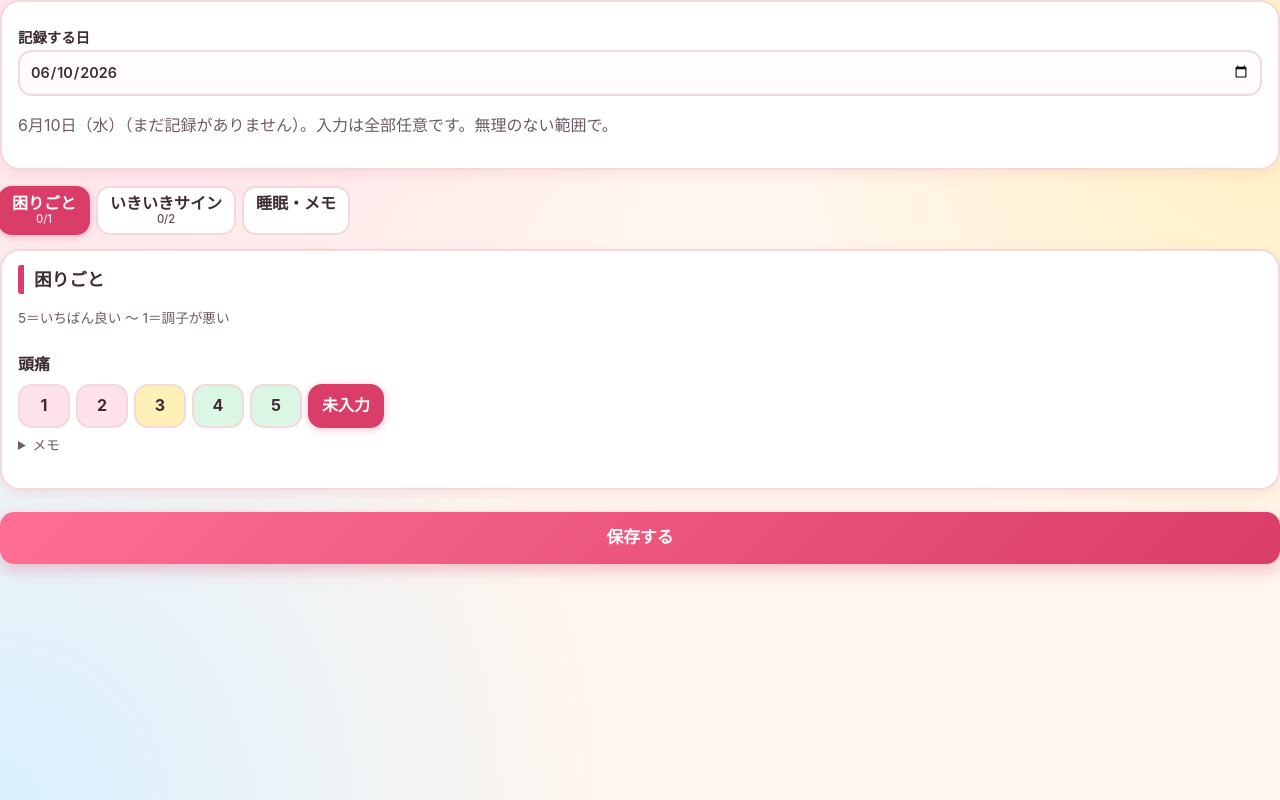
Test: 今日の画面: 状態と「意識した」を1つのまとまりで › サインの中に「意識した？」が出て、試したことの一覧には重複して出ない。保存できる
Step 1. Click the tab "いきいきサイン 0/2" → (166, 210), box [96,186,236,234]
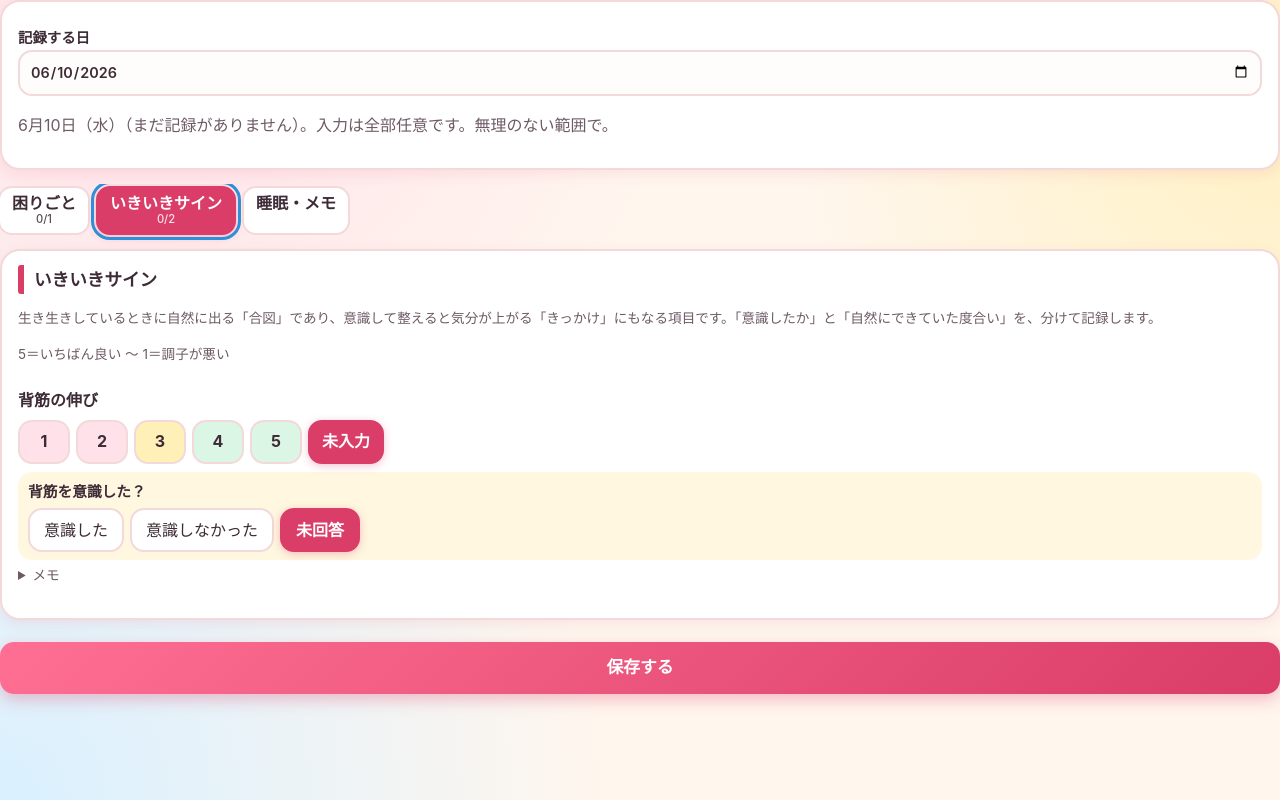
Check: the text "自然にできていた度合い" is shown, box [18,310,1162,326]
Check: the number of elements "背筋を意識した" is 1, box [18,472,1262,560]
Step 2. Click the radio button labelled "意識した" → (76, 530), box [28,508,124,552]
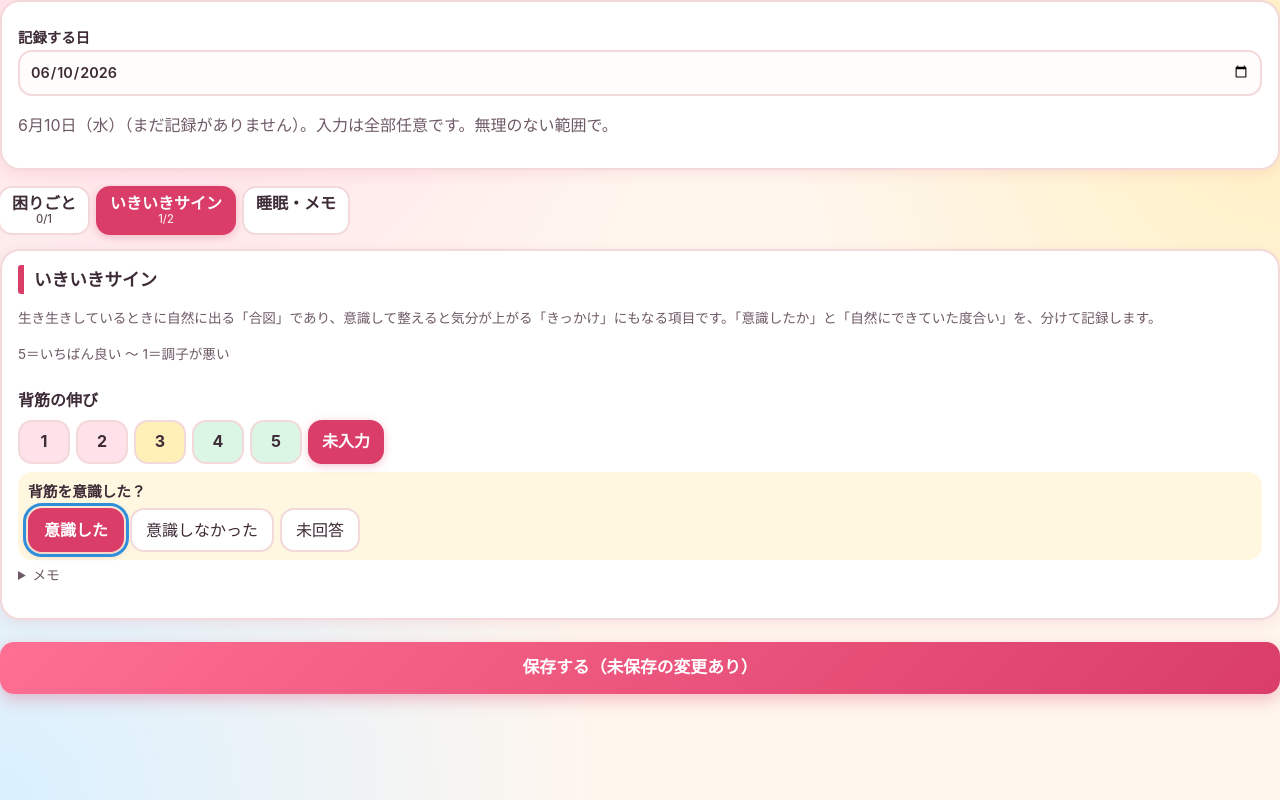
Step 3. Click the radio button labelled "4" → (218, 442), box [192,420,244,464]
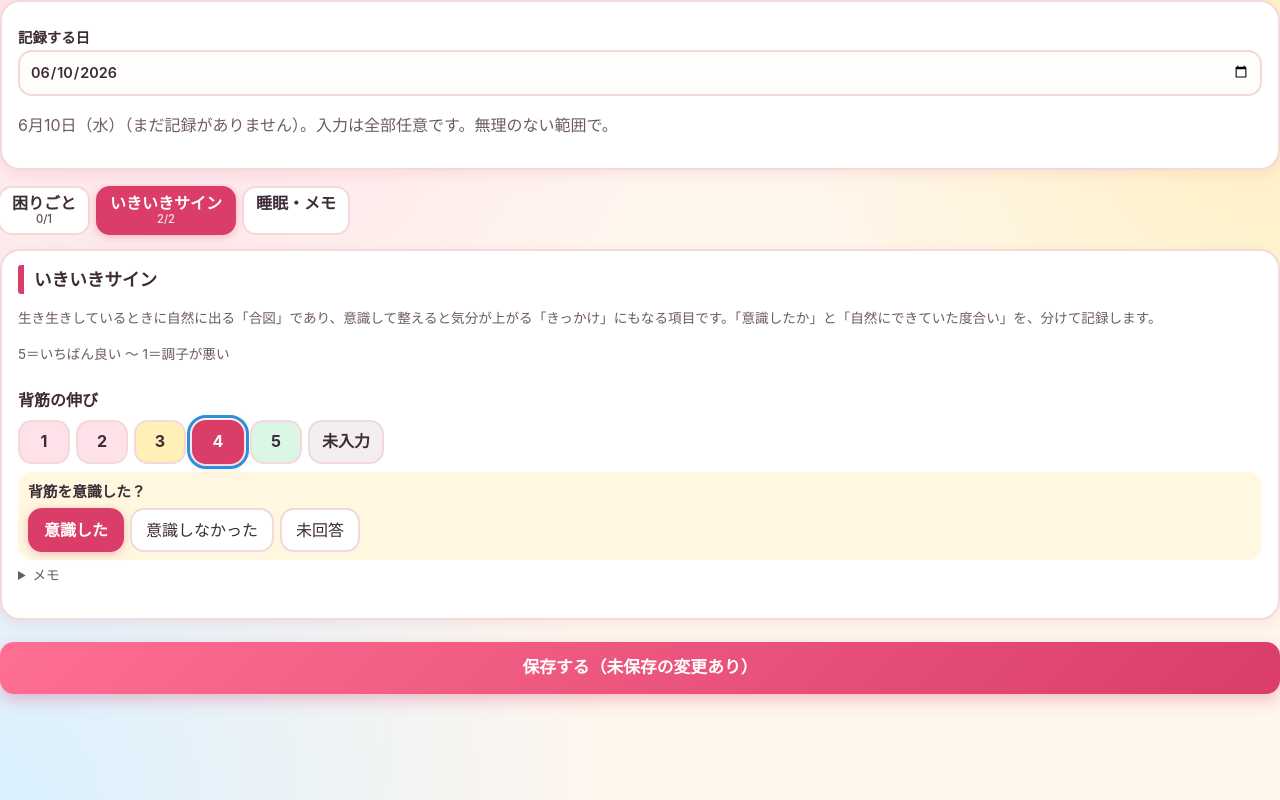
Step 4. Click the button "保存する（未保存の変更あり）" → (640, 668), box [0,642,1279,694]
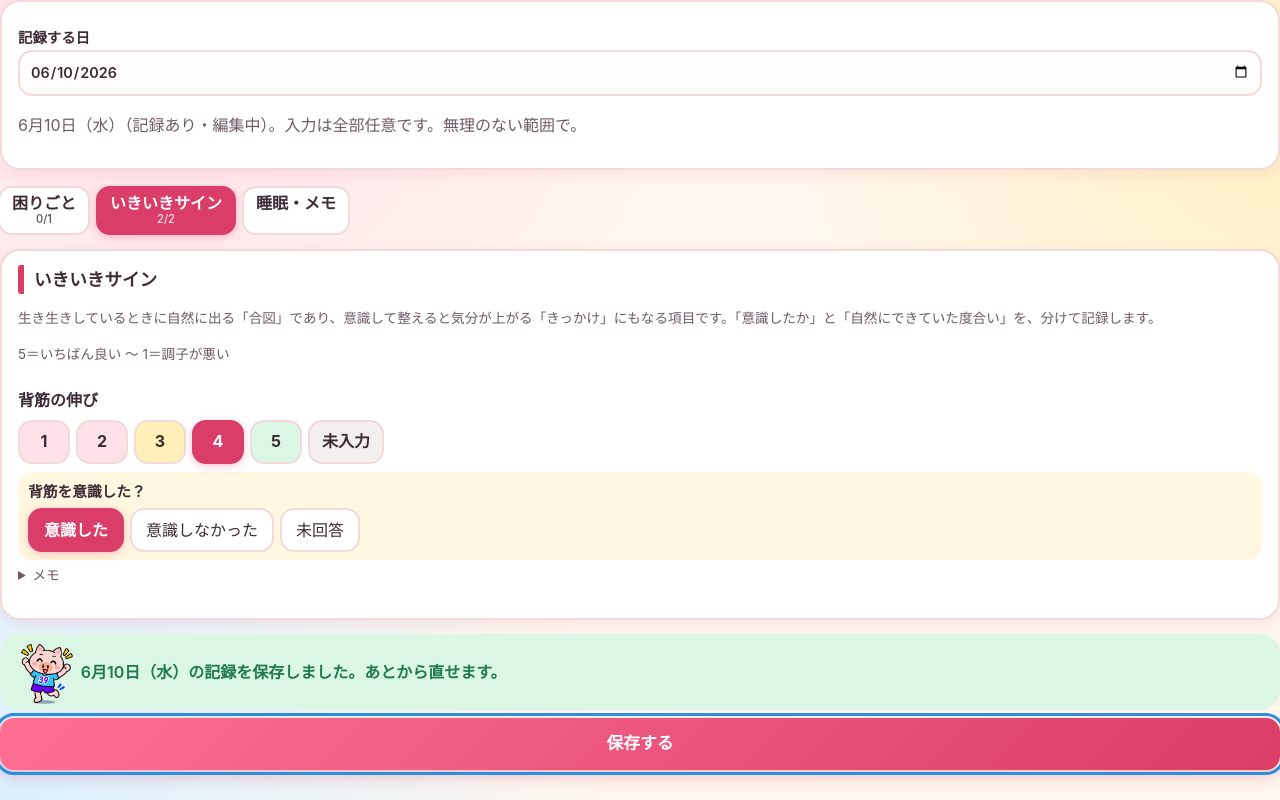
Check: the text "6月10日（水）の記録を保存しました。あとから直せます。" is shown, box [81,659,507,685]
